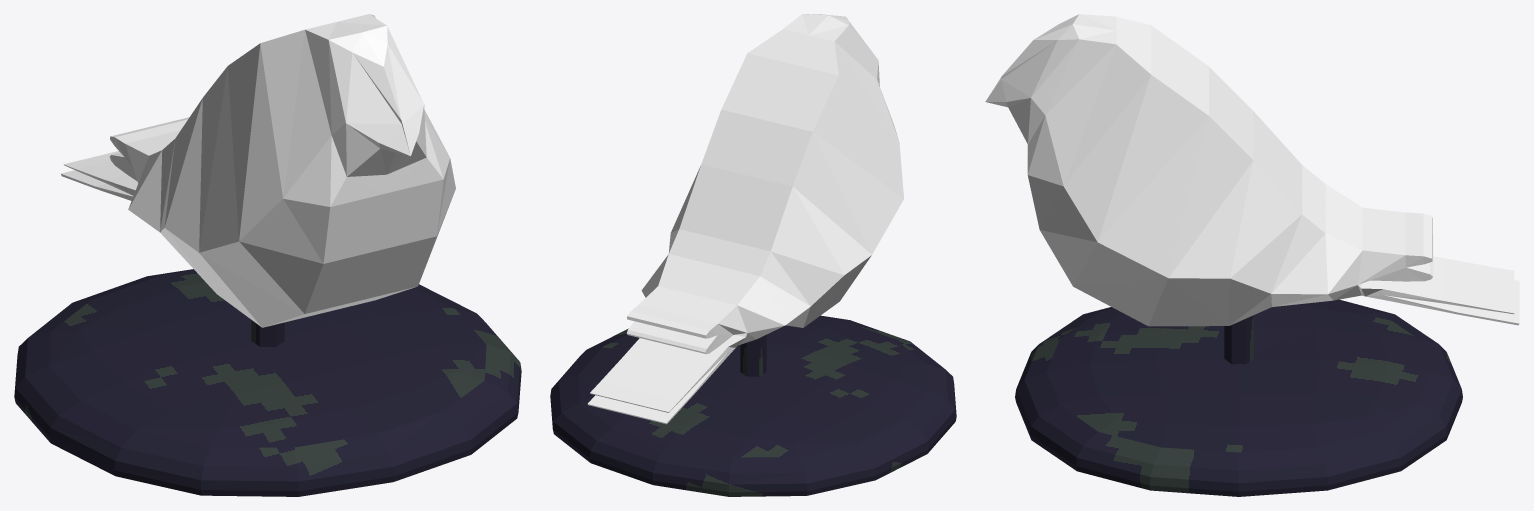
Rendered from UrSwallow.obj.
3 renders of one model, left to right at view 1: azimuth 30°, elevation 25°; view 2: azimuth 150°, elevation 25°; view 3: azimuth 270°, elevation 25°, orthographic. The views are drawn at different scales.
Parts seen in each view (by area): view 1: Base_of_Statue, Swallow_Statue, Base_Stem_of_Statue; view 2: Swallow_Statue, Base_of_Statue, Base_Stem_of_Statue; view 3: Swallow_Statue, Base_of_Statue, Base_Stem_of_Statue.
Boxes of the visible parts, box(x1,y1,x2,y2) form: Base_of_Statue: box(14, 269, 521, 496); Swallow_Statue: box(61, 14, 455, 327); Base_Stem_of_Statue: box(251, 320, 284, 346); Swallow_Statue: box(587, 14, 903, 424); Base_of_Statue: box(550, 315, 956, 496); Base_Stem_of_Statue: box(740, 334, 766, 376); Swallow_Statue: box(985, 14, 1519, 326); Base_of_Statue: box(1015, 299, 1462, 496); Base_Stem_of_Statue: box(1224, 315, 1253, 364).
Bounding box in the file's own units: 0.9167 × 0.8697 × 1.09.
